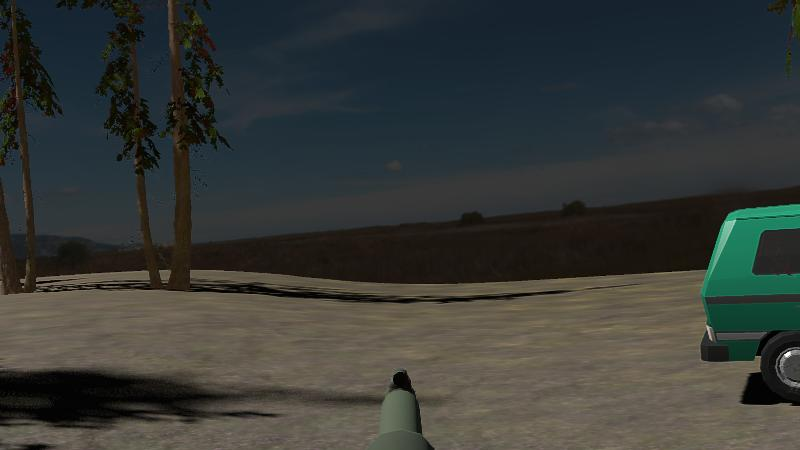car: (699, 198, 800, 421)
